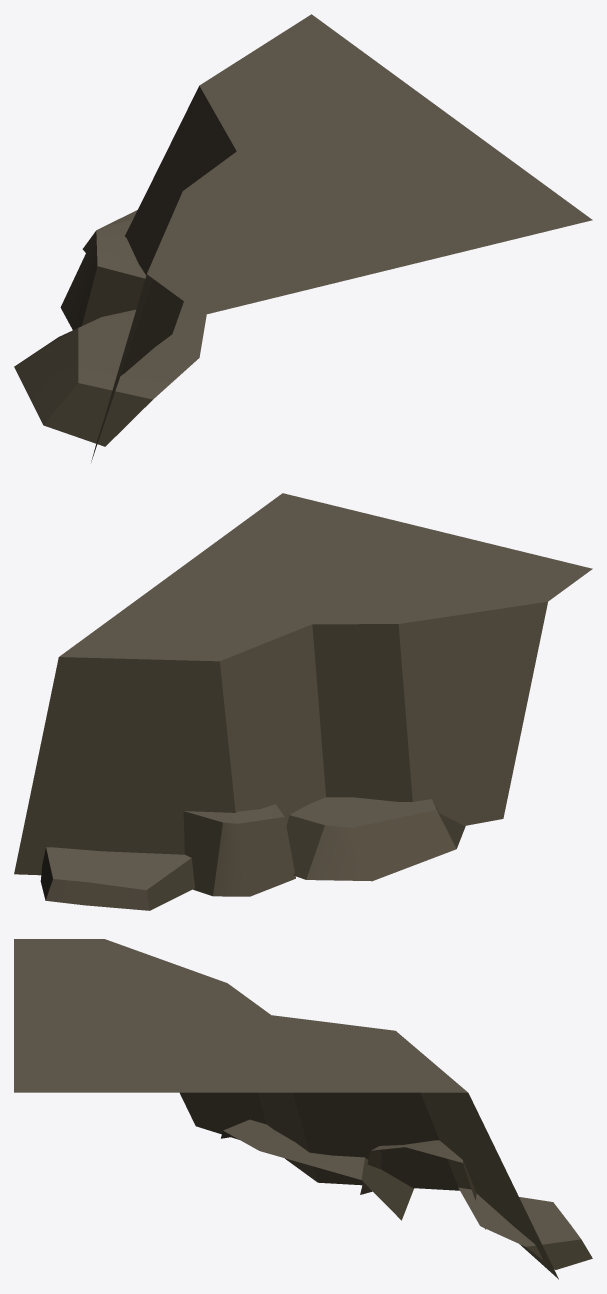
The model's file is SF_Env_RockEdge_Corner_03.fbx.
3 renders of one model, top to bottom at view 1: azimuth 30°, elevation 25°; view 2: azimuth 150°, elevation 25°; view 3: azimuth 270°, elevation 25°, orthographic. The views are drawn at different scales.
Visible parts, largest first — view 1: SF_Env_RockEdge_Corner_03; view 2: SF_Env_RockEdge_Corner_03; view 3: SF_Env_RockEdge_Corner_03.
Part boxes in pixels (x1=…): SF_Env_RockEdge_Corner_03: x1=14, y1=14, x2=592, y2=462; SF_Env_RockEdge_Corner_03: x1=14, y1=493, x2=592, y2=910; SF_Env_RockEdge_Corner_03: x1=14, y1=939, x2=592, y2=1279.
Bounding box in the file's own units: 10 × 5.82 × 15.93.
